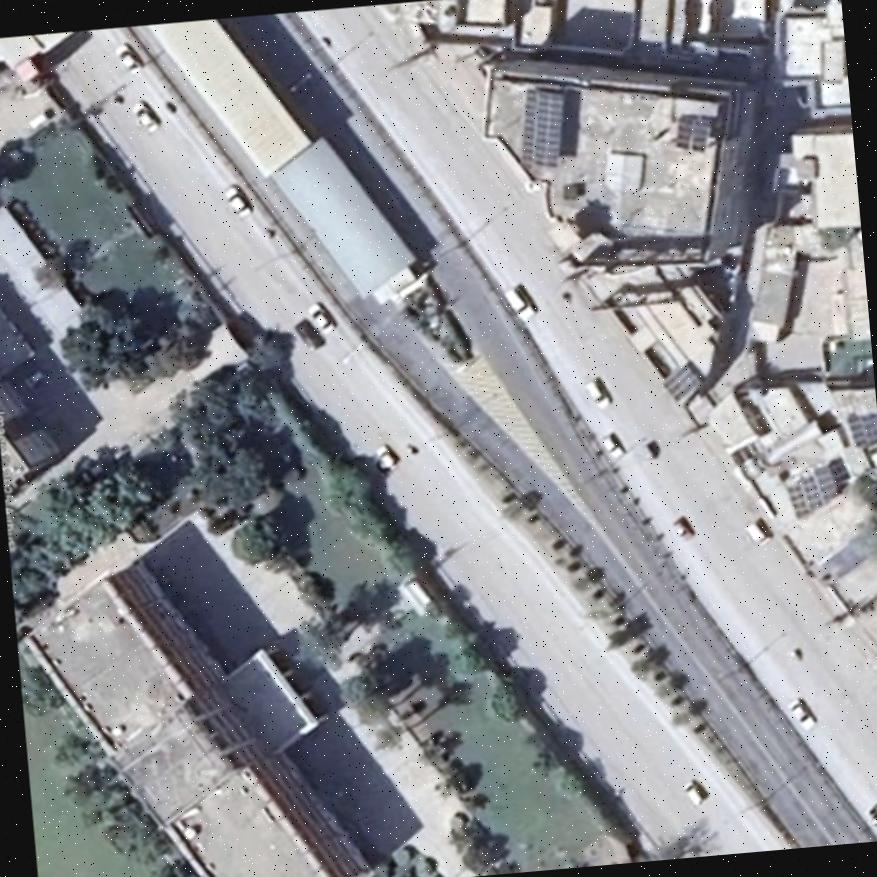Solarpanel: (521, 89, 563, 167), (785, 464, 836, 519), (661, 366, 699, 403), (842, 411, 877, 447), (674, 118, 708, 152)
